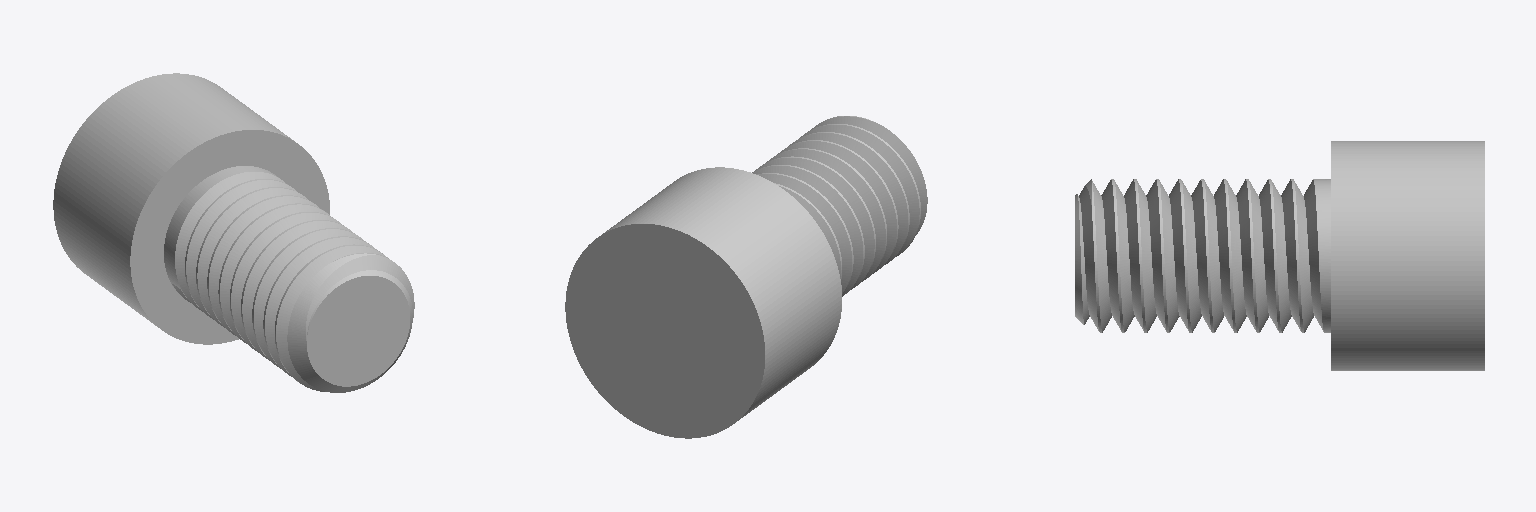
File: factory_bolt_m12_tight.obj
3 renders of one model, left to right at view 1: azimuth 30°, elevation 25°; view 2: azimuth 150°, elevation 25°; view 3: azimuth 270°, elevation 25°, orthographic.
Visible parts, largest first — view 1: mesh1, mesh4, mesh2, mesh8, mesh3, mesh7; view 2: mesh0, mesh1, mesh5, mesh3; view 3: mesh1, mesh4, mesh5, mesh3, mesh7.
Part boxes in pixels (x1,y1,x2,y2): mesh1: (53,73,293,325); mesh4: (172,172,414,391); mesh2: (130,130,329,344); mesh8: (307,276,409,386); mesh3: (164,166,388,381); mesh7: (287,253,412,392); mesh0: (565,224,764,438); mesh1: (603,167,841,420); mesh5: (753,116,927,296); mesh3: (752,116,920,294); mesh1: (1331,141,1484,370); mesh4: (1079,179,1323,331); mesh5: (1078,180,1313,332); mesh3: (1092,179,1330,332); mesh7: (1075,179,1091,324).
Bounding box in the file's own units: 0.018 × 0.018 × 0.032.